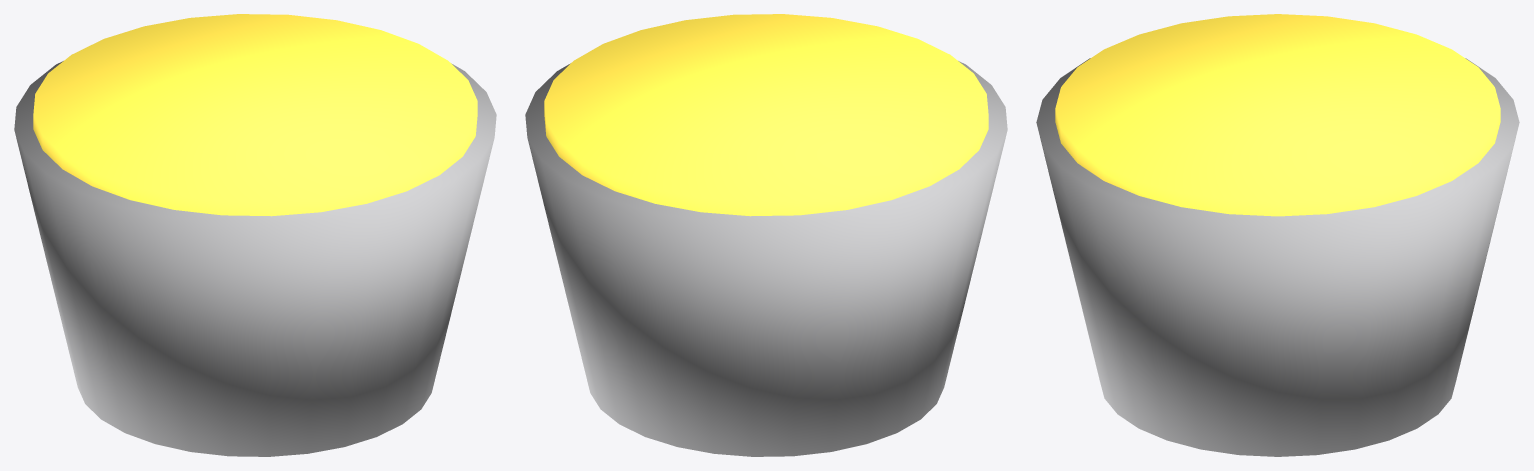
File: honey_mustard_cup.glb
3 renders of one model, left to right at view 1: azimuth 30°, elevation 25°; view 2: azimuth 150°, elevation 25°; view 3: azimuth 270°, elevation 25°, orthographic.
Parts seen in each view (by area): view 1: Cone, Cylinder; view 2: Cone, Cylinder; view 3: Cone, Cylinder.
Part boxes in pixels (box(x1,y1,x2,y2)): Cone: box(14, 61, 496, 456); Cylinder: box(33, 14, 477, 216); Cone: box(525, 61, 1007, 456); Cylinder: box(544, 14, 988, 216); Cone: box(1036, 58, 1519, 456); Cylinder: box(1055, 14, 1500, 216).
Bounding box in the file's own units: 0.76 × 0.475 × 0.76.
